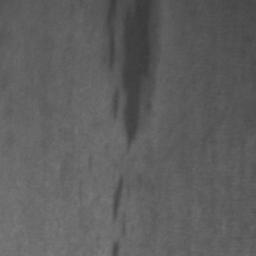Inclusion: (122, 0, 152, 143), (114, 178, 124, 220)
